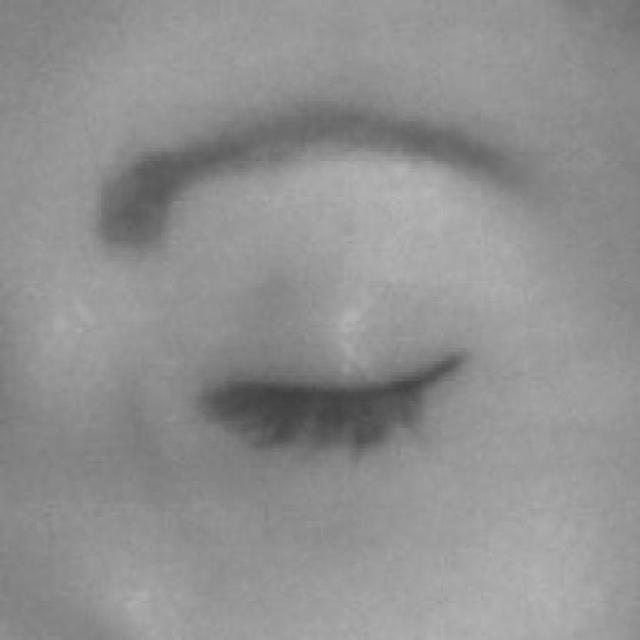drowsy: (207, 259, 471, 556)
